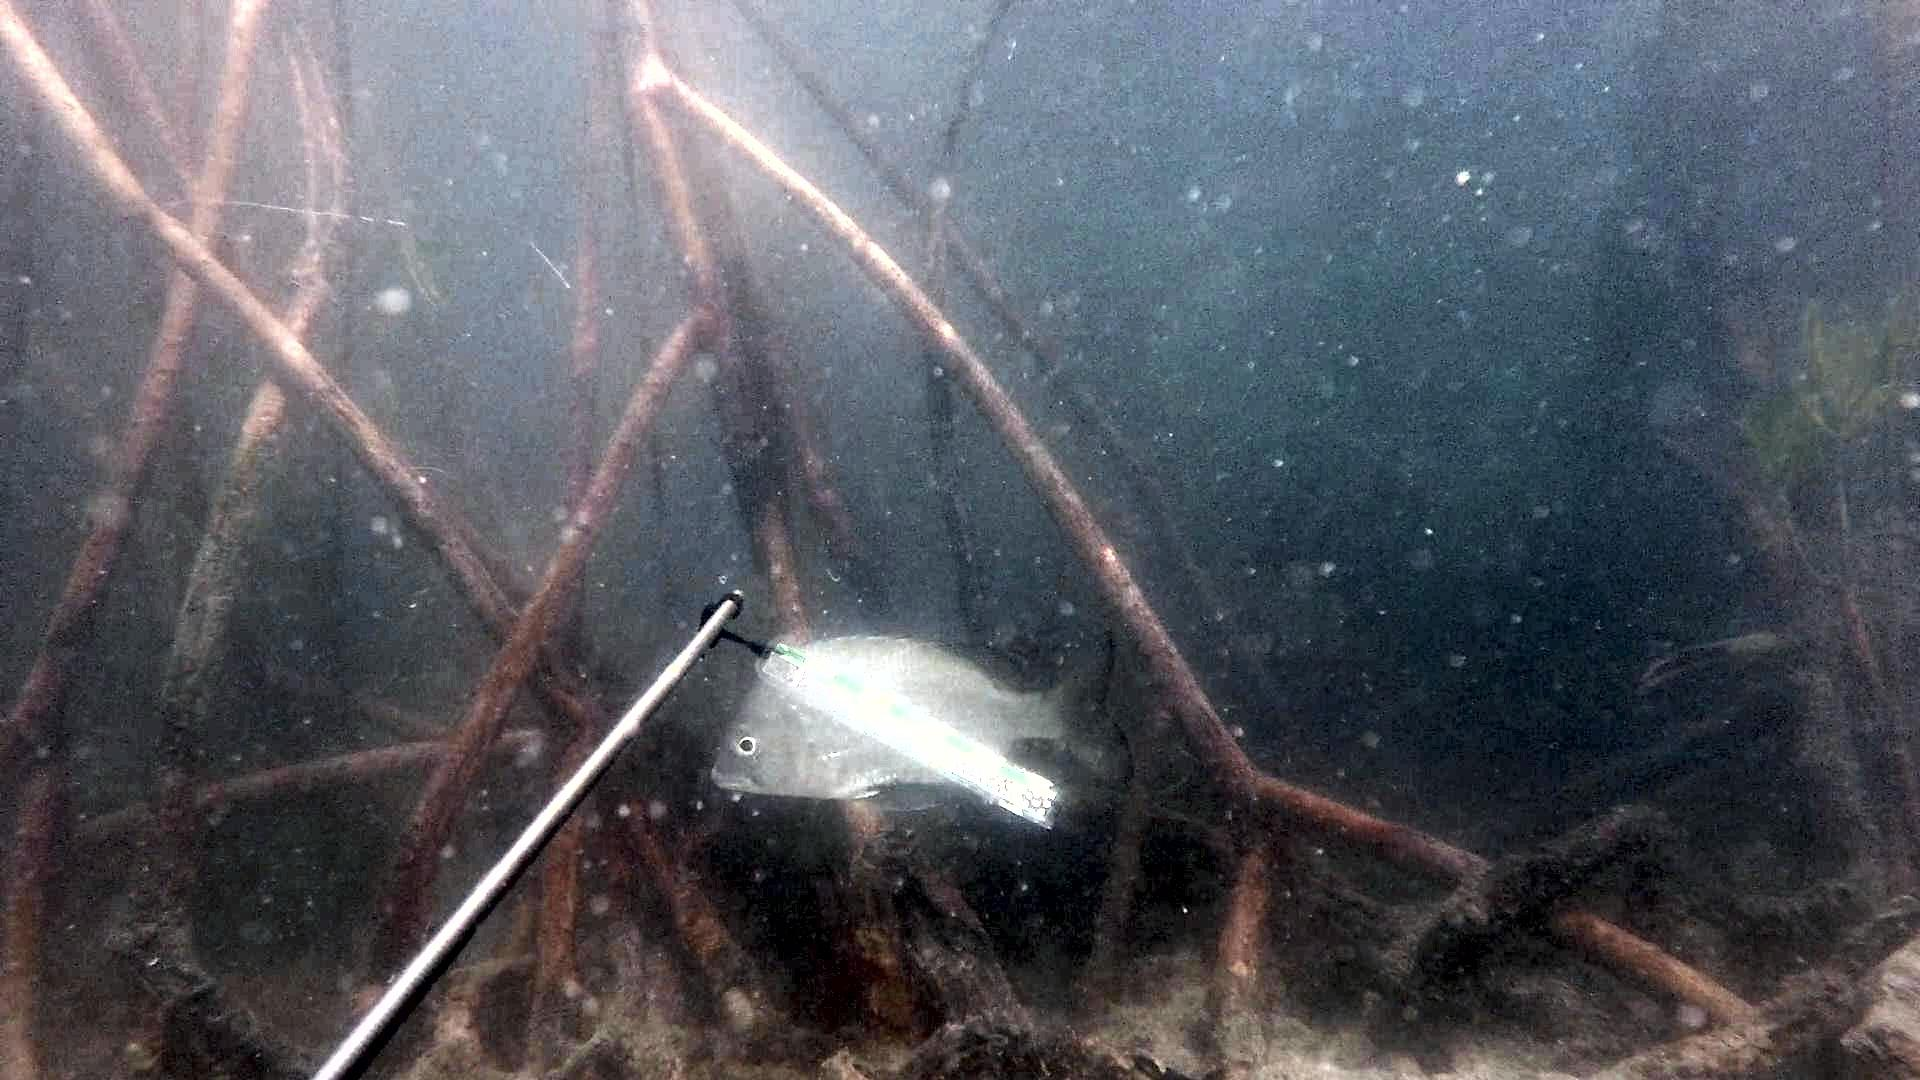acanthopagrus palmaris: (702, 624, 1141, 819)
